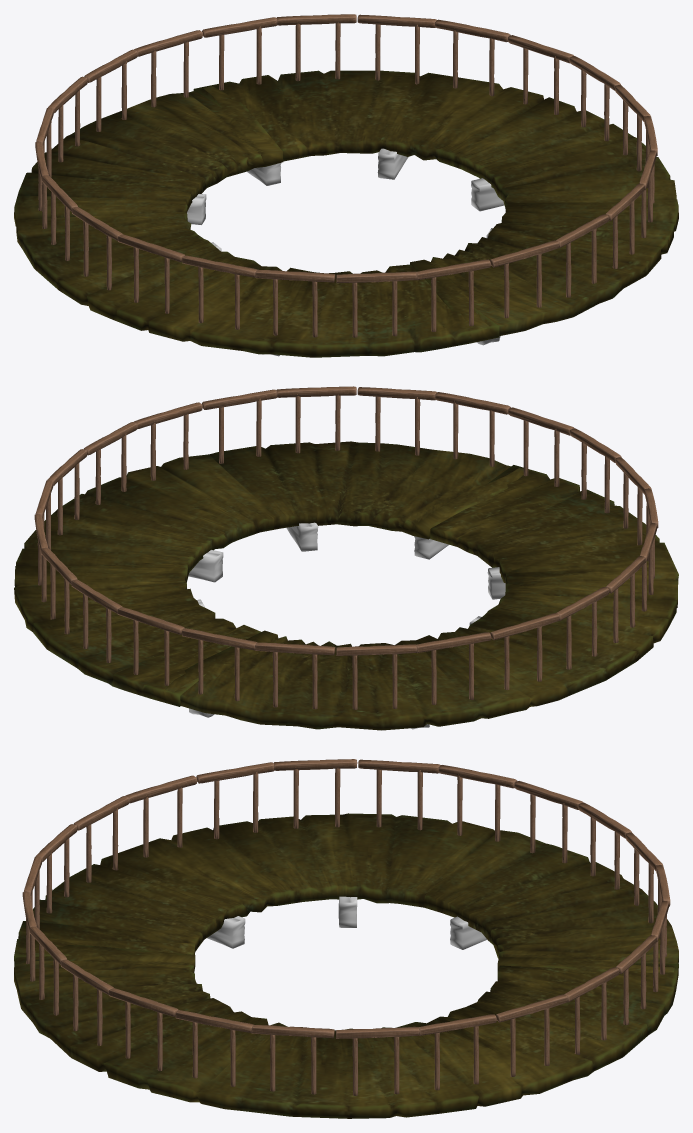
Rendered from SM_platform_high.fbx.
3 renders of one model, top to bottom at view 1: azimuth 30°, elevation 25°; view 2: azimuth 150°, elevation 25°; view 3: azimuth 270°, elevation 25°, orthographic. The views are drawn at different scales.
Parts seen in each view (by area): view 1: platform_high; view 2: platform_high; view 3: platform_high.
Boxes of the visible parts, bbox=[...] form: platform_high: bbox=[14, 14, 678, 357]; platform_high: bbox=[14, 386, 678, 730]; platform_high: bbox=[14, 759, 678, 1118].
Size of the model in its own units: 1672 by 260 by 1599.
